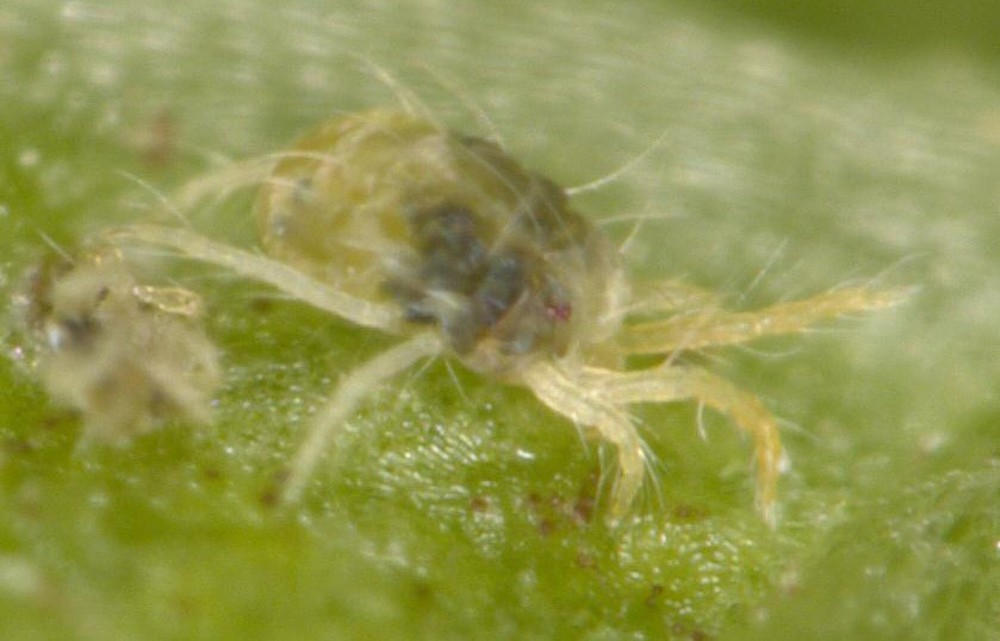Aracnido Rojo: (106, 87, 920, 539)
